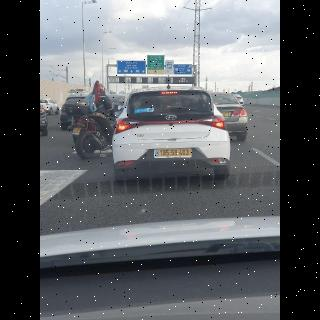LicensePlate: (159, 150, 191, 157)
